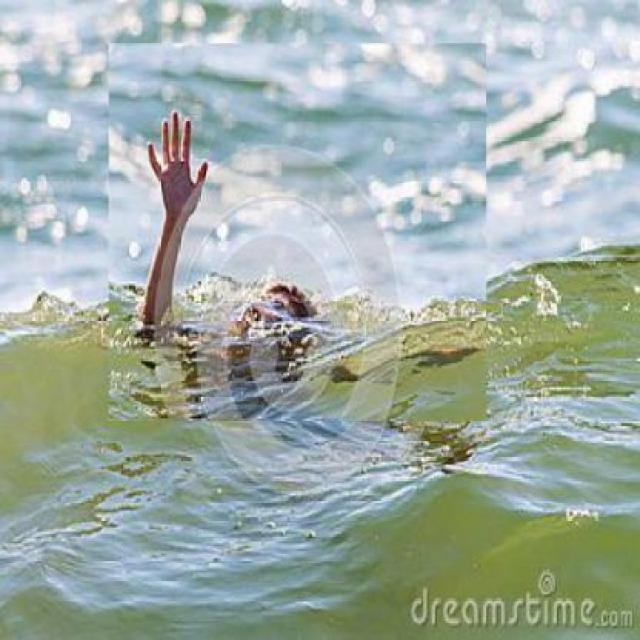Out of Water: (116, 97, 373, 406)
